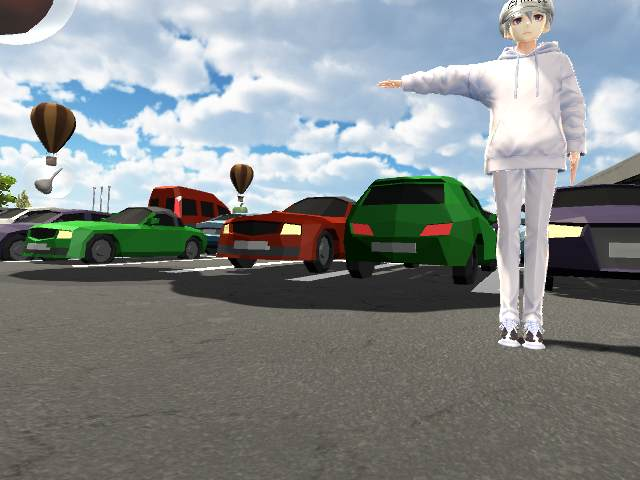singleP_left: (377, 1, 590, 352)
